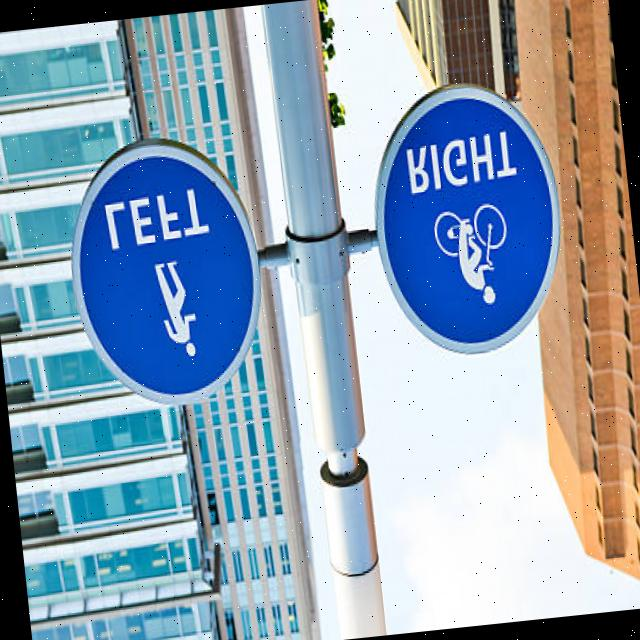bicycle: (358, 58, 584, 369)
